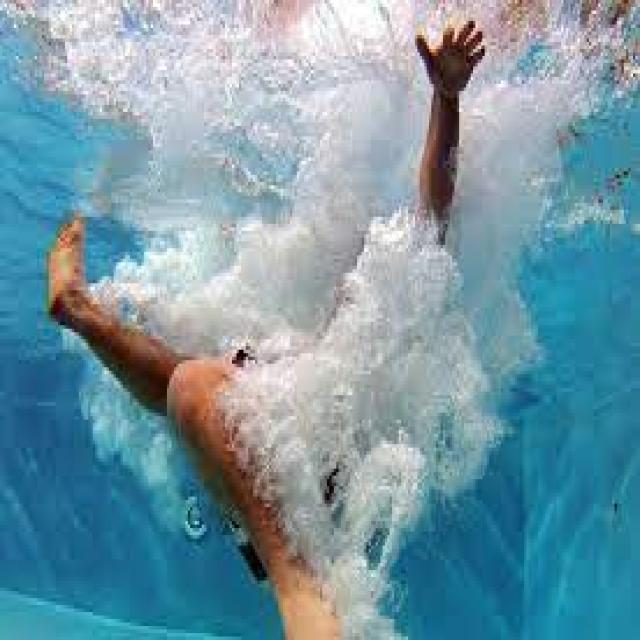Drowning: (13, 0, 581, 640)
